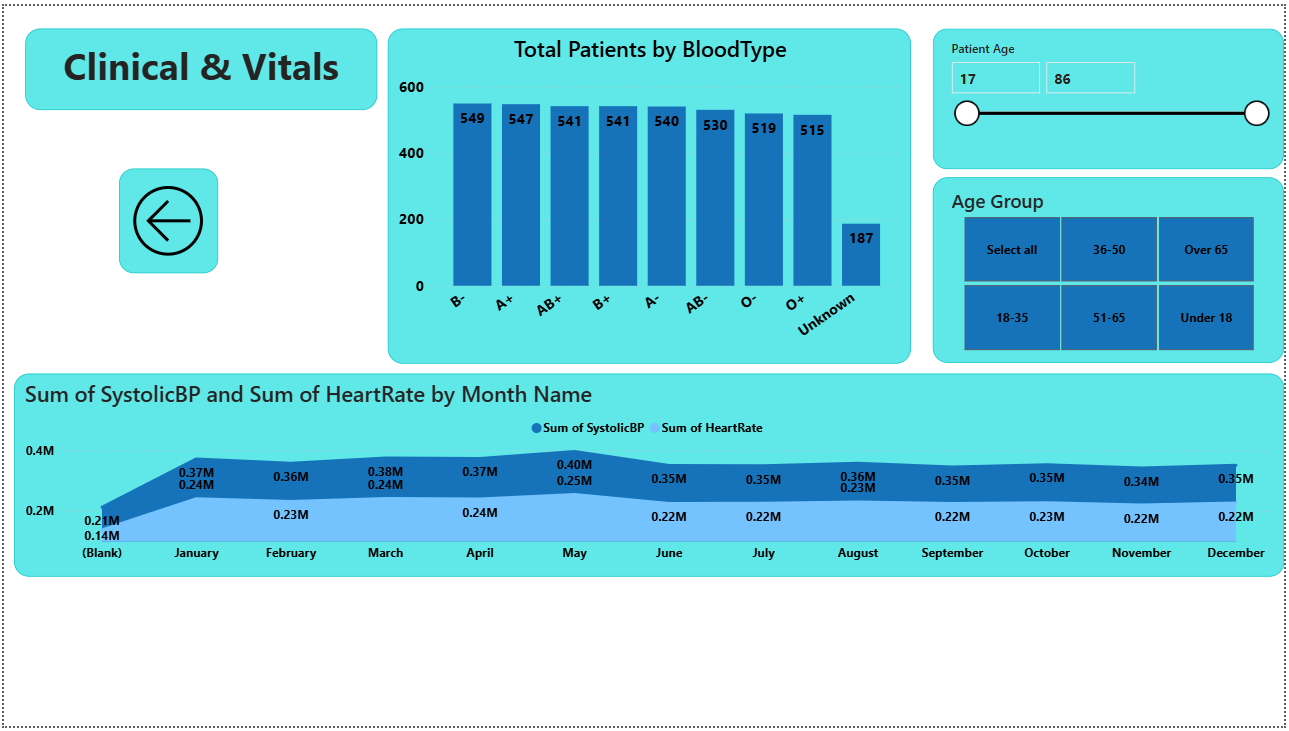

Layout of this report page (visuals, bound fields, positions):
{"tool":"powerbi","page":{"name":"Clinical & Vitals","canvas":[1280,720],"ordinal":3},"visuals":[{"type":"clusteredColumnChart","fields":{"Category":["Patients Master.BloodType"],"Y":["_All Measures.Total Patients"]},"box":[384,22,523.4,335.1],"z":0},{"type":"areaChart","fields":{"Category":["Date Table.Month Name"],"Y":["Sum(Vitals Log.SystolicBP)","Sum(Vitals Log.HeartRate)"]},"box":[9.8,368.1,1270.5,203],"z":1000},{"type":"slicer","fields":{"Values":["Patients Master.Patient Age"]},"box":[929.4,22,351,140.6],"z":2000},{"type":"slicer","fields":{"Values":["Patients Master.Age Group"]},"box":[929.4,171.2,351,185.9],"z":3000},{"type":"textbox","box":[20.8,22,352.2,81.9],"z":5000},{"type":"actionButton","box":[114.9,162.6,99,105.2],"z":6000}]}

Visuals, with their boxes in screenshot pixels (x1, y1, x2, y2), scaled from the page's 1280x720 canvas onto the 1289x731 screenshot:
clusteredColumnChart - Patients Master.BloodType x _All Measures.Total Patients: (387,22,914,363)
areaChart - Date Table.Month Name x Sum(Vitals Log.SystolicBP): (10,374,1288,580)
slicer - Patients Master.Patient Age: (936,22,1288,165)
slicer - Patients Master.Age Group: (936,174,1288,363)
textbox: (21,22,376,105)
actionButton: (116,165,215,272)
